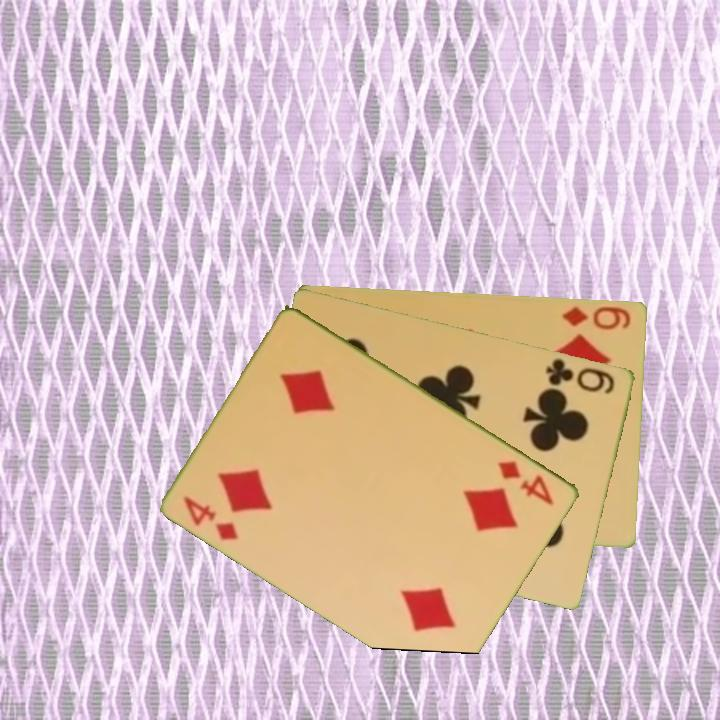4d: (180, 492, 243, 544), (495, 456, 557, 508)
6c: (542, 354, 618, 397)
6d: (559, 302, 634, 333)
